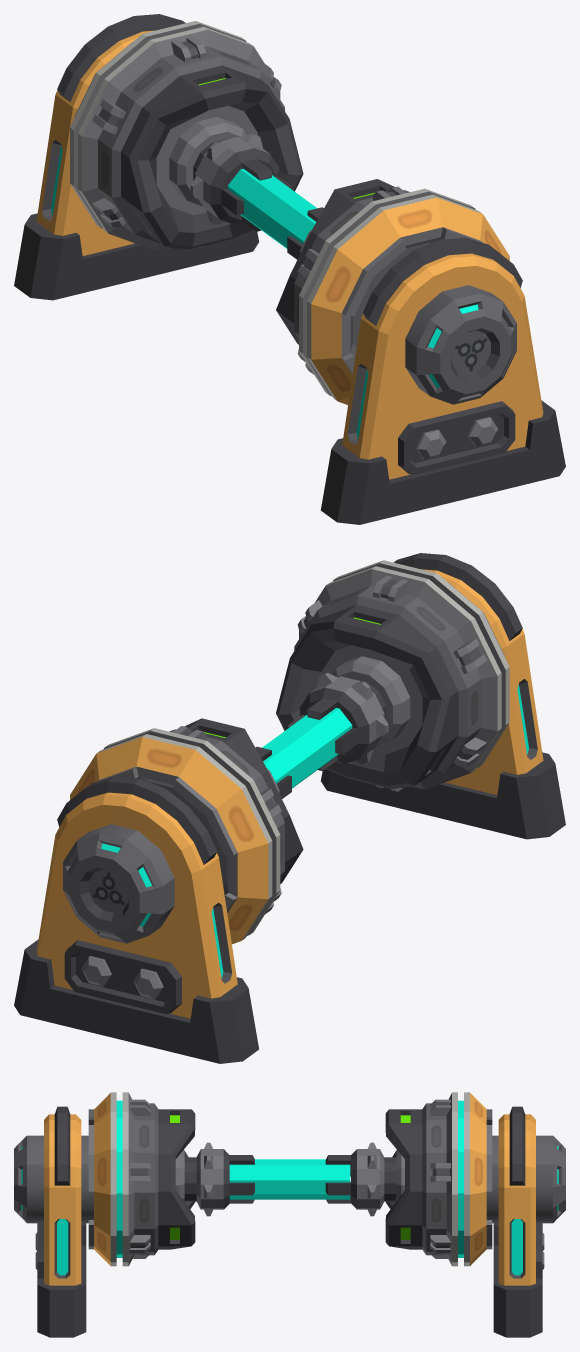
Rendered from worlds_SM_Prop_PowerGenerator_02.gltf.
The picture shows the model from 3 angles, top to bottom: view 1: azimuth 30°, elevation 25°; view 2: azimuth 150°, elevation 25°; view 3: azimuth 270°, elevation 25°; orthographic projection. The views are drawn at different scales.
Visible parts, largest first — view 1: SM_Prop_PowerGenerator_02; view 2: SM_Prop_PowerGenerator_02; view 3: SM_Prop_PowerGenerator_02.
Part boxes in pixels (x1,y1,x2,y2): SM_Prop_PowerGenerator_02: (14,14,565,524); SM_Prop_PowerGenerator_02: (14,553,565,1063); SM_Prop_PowerGenerator_02: (14,1092,565,1337).
Size of the model in its own units: 2.61 by 2.84 by 7.32.
2 materials, 2 textured.
